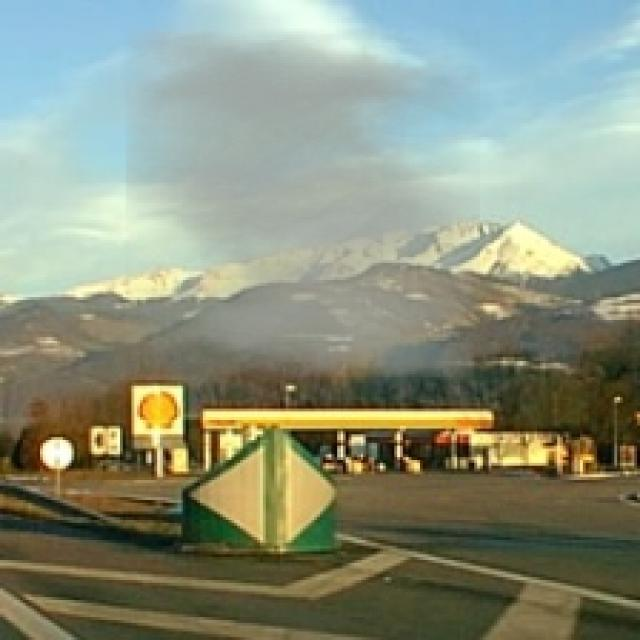Smoke: (126, 29, 480, 378)
